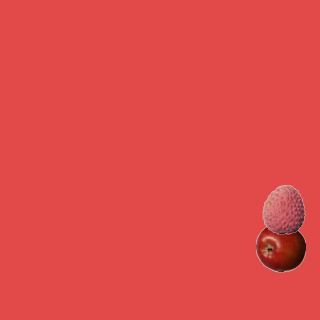Apple Braeburn: (255, 222, 305, 272)
Lychee: (258, 184, 308, 234)
